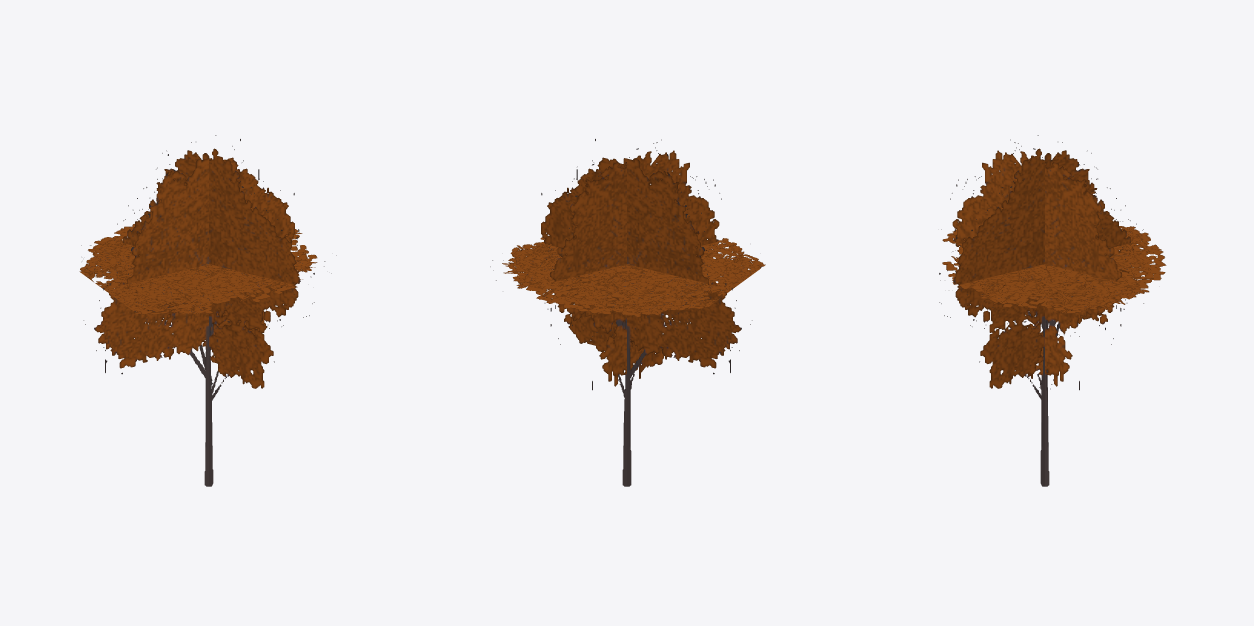
File: tree_deciduous_04_far.glb
3 views of the same model, side by side, from view 1: azimuth 30°, elevation 25°; view 2: azimuth 150°, elevation 25°; view 3: azimuth 270°, elevation 25° (orthographic).
Visible parts, largest first — view 1: env; view 2: env; view 3: env.
Boxes of the visible parts, left/top/right/bottom form: env: left=79, top=135, right=336, bottom=486; env: left=490, top=139, right=765, bottom=486; env: left=939, top=135, right=1166, bottom=486.
Bounding box in the file's own units: 5.94 × 5.94 × 5.14.
Materials: 1 (1 with a texture image).
